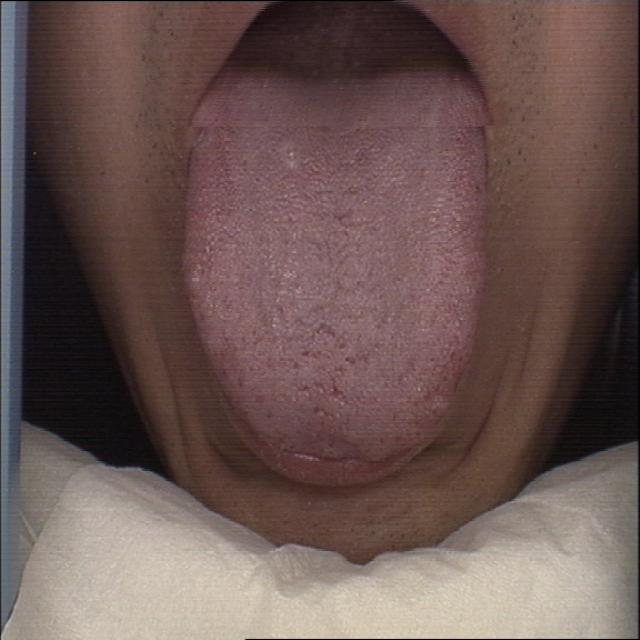tongue: (182, 57, 494, 497)
